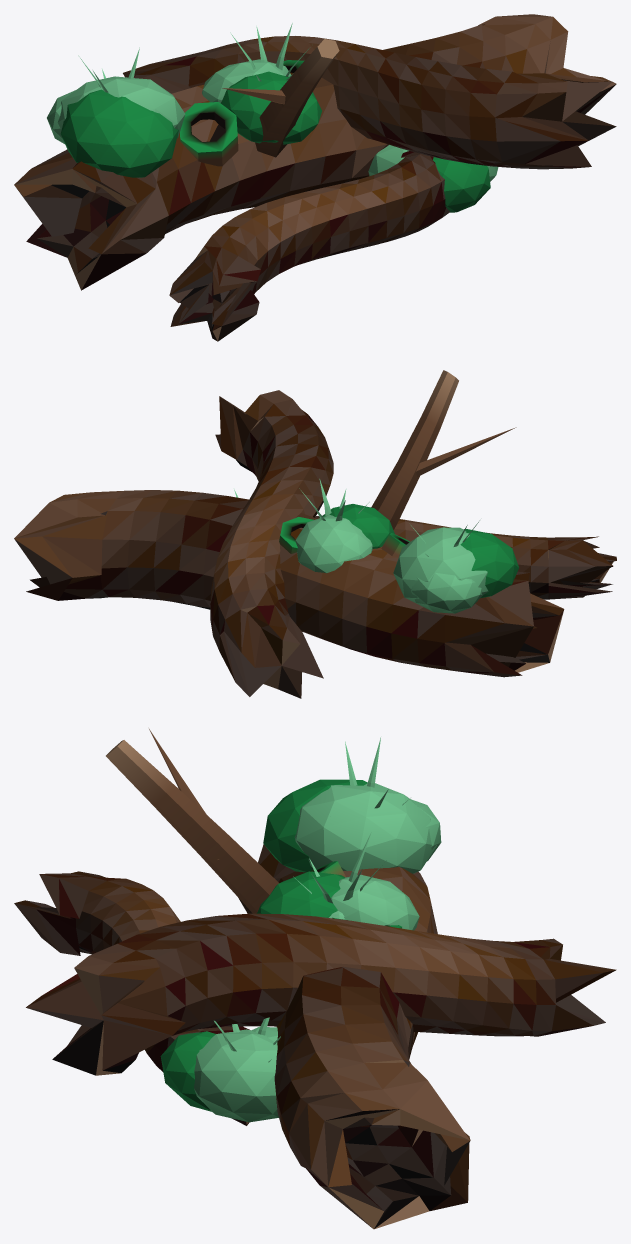
File: pohon_tumbang_logjam_rainforest_812693.glb
3 views of the same model, one above another, from view 1: azimuth 30°, elevation 25°; view 2: azimuth 150°, elevation 25°; view 3: azimuth 270°, elevation 25° (orthographic). The views are drawn at different scales.
Visible parts, largest first — view 1: Tumpukan_Kayu_Hanyut; view 2: Tumpukan_Kayu_Hanyut; view 3: Tumpukan_Kayu_Hanyut.
Part boxes in pixels (x1,y1,x2,y2): Tumpukan_Kayu_Hanyut: [14, 14, 616, 341]; Tumpukan_Kayu_Hanyut: [14, 370, 616, 698]; Tumpukan_Kayu_Hanyut: [14, 729, 616, 1229].
Size of the model in its own units: 4.7 by 2 by 3.63.
